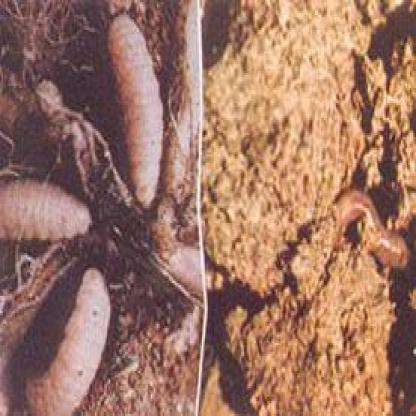whorl-maggot: (25, 269, 111, 416), (108, 13, 162, 211), (0, 182, 90, 242)
